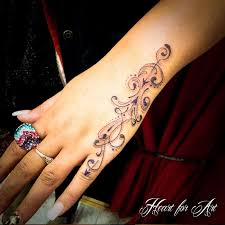hand: (1, 29, 143, 221)
